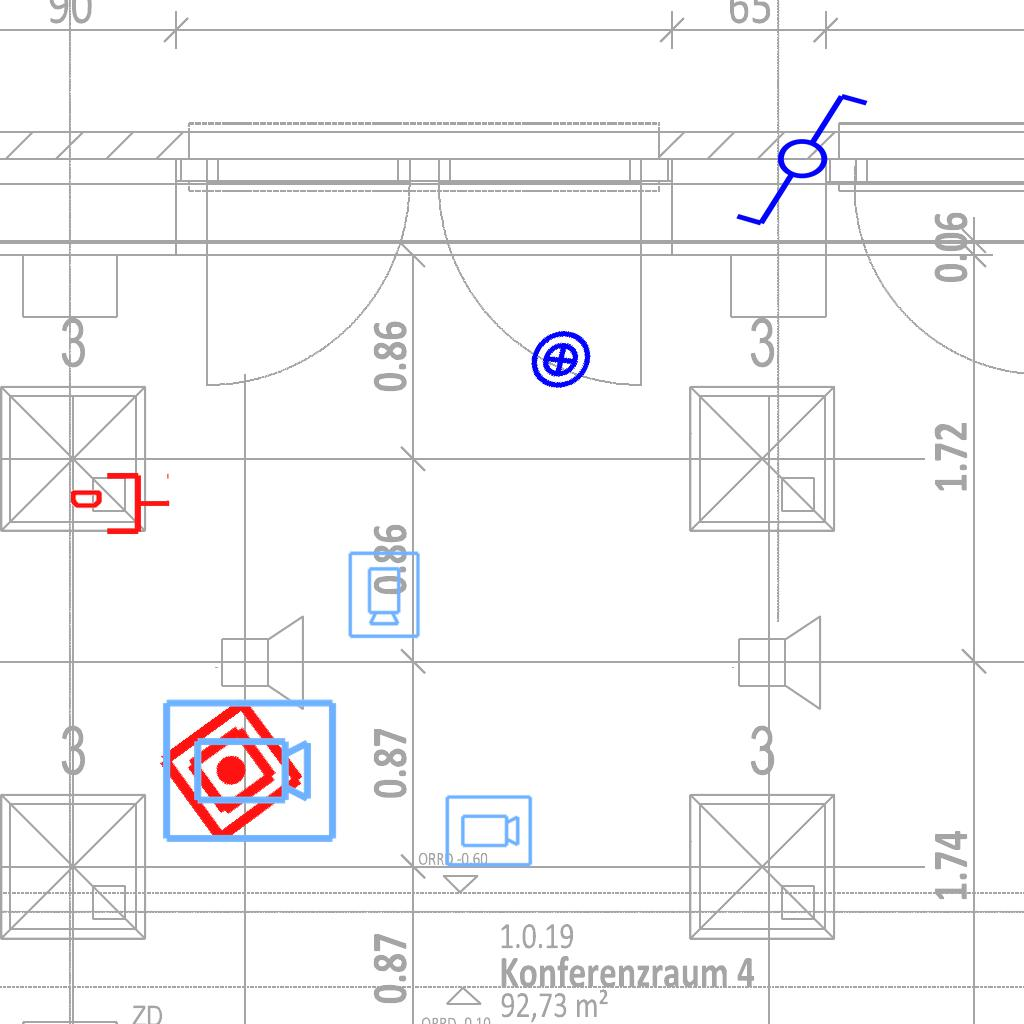Datenanschluss_einfach: (71, 469, 171, 538)
KFO_Kamera_mit_Festobjektiv: (158, 695, 340, 849), (345, 549, 422, 640), (443, 793, 534, 870)
NAM-Nichtautomatischer_Melder: (152, 691, 311, 850)
Taster_beleuchtet: (514, 313, 608, 407)
Wechselschalter: (732, 89, 889, 233)
